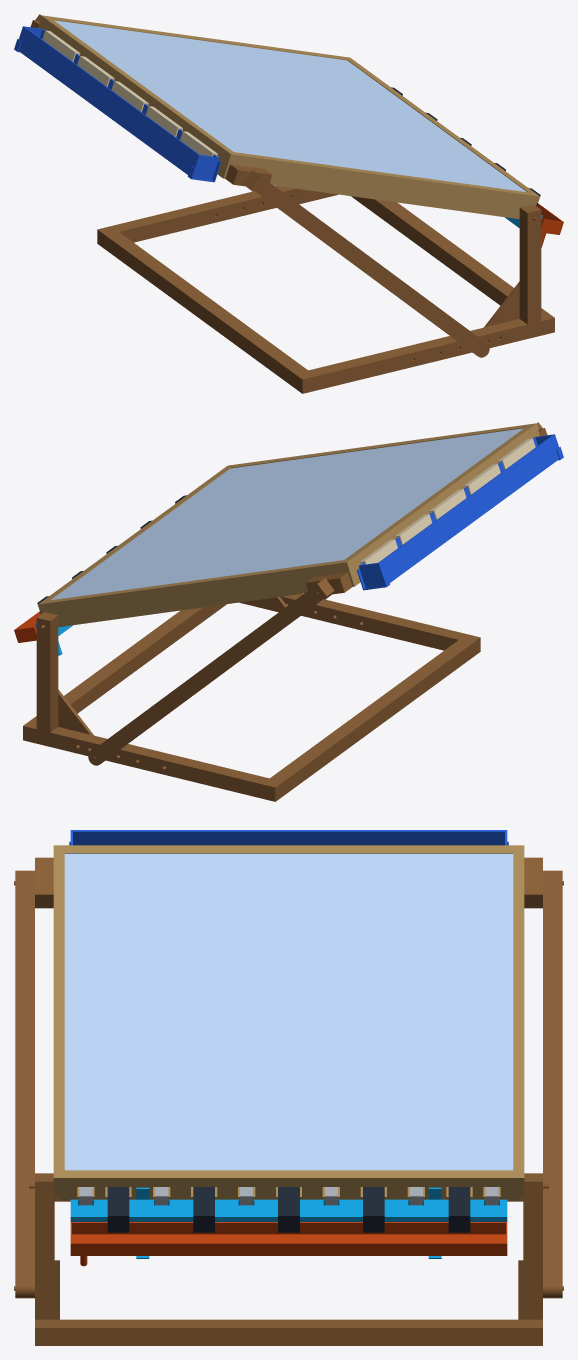
The picture shows the model from 3 angles, top to bottom: view 1: azimuth 30°, elevation 25°; view 2: azimuth 150°, elevation 25°; view 3: azimuth 270°, elevation 25°; orthographic projection. The views are drawn at different scales.
Parts seen in each view (by area): view 1: Glazing, twin-wall polycarbonate, Adjustable tilt stand, Insulated frame, Feed trough, Wick strips, 4 stages, Brine gutter; view 2: Glazing, twin-wall polycarbonate, Adjustable tilt stand, Insulated frame, Feed trough, Wick strips, 4 stages, Brine gutter; view 3: Glazing, twin-wall polycarbonate, Adjustable tilt stand, Insulated frame, Brine gutter, Distillate manifold, Feed trough, Absorber plate, black, Condenser plates, 4.
Part boxes in pixels (<box>): Glazing, twin-wall polycarbonate: <box>54,20,526,191</box>; Adjustable tilt stand: <box>30,14,554,393</box>; Insulated frame: <box>38,15,539,219</box>; Feed trough: <box>14,26,220,182</box>; Wick strips, 4 stages: <box>42,30,469,156</box>; Brine gutter: <box>537,203,563,247</box>; Glazing, twin-wall polycarbonate: <box>51,428,523,599</box>; Adjustable tilt stand: <box>23,422,547,801</box>; Insulated frame: <box>38,423,539,627</box>; Feed trough: <box>357,434,563,590</box>; Wick strips, 4 stages: <box>108,438,535,564</box>; Brine gutter: <box>14,611,40,642</box>; Glazing, twin-wall polycarbonate: <box>64,853,513,1170</box>; Adjustable tilt stand: <box>14,857,563,1345</box>; Insulated frame: <box>53,845,524,1200</box>; Brine gutter: <box>70,1222,507,1266</box>; Distillate manifold: <box>70,1187,507,1258</box>; Feed trough: <box>69,830,508,845</box>; Absorber plate, black: <box>107,1187,470,1232</box>; Condenser plates, 4: <box>79,1187,498,1205</box>.
Size of the model in its own units: 1.22 by 0.7822 by 1.26.
